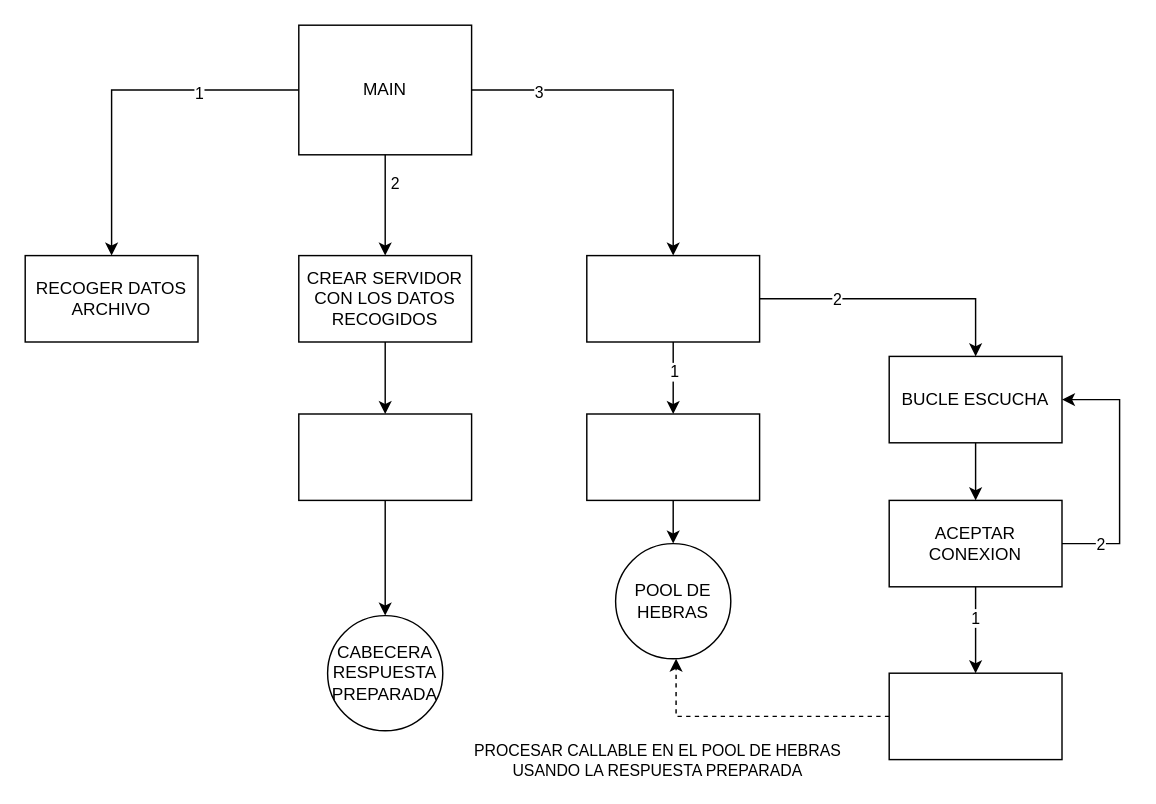
The diagram is 1156 pixels wide and 804 high, and some of its shapes have lost their labels. The centre of each missing label's shape, as x and y in pixels:
"CREAR CALLABLE" goes at point 975,716.
"CREAR POOL DE HEBRAS" goes at point 672,456.
"INICIAR SERVIDOR" goes at point 672,298.
"PREPARAR CABECERA RESPUESTA" goes at point 384,456.
